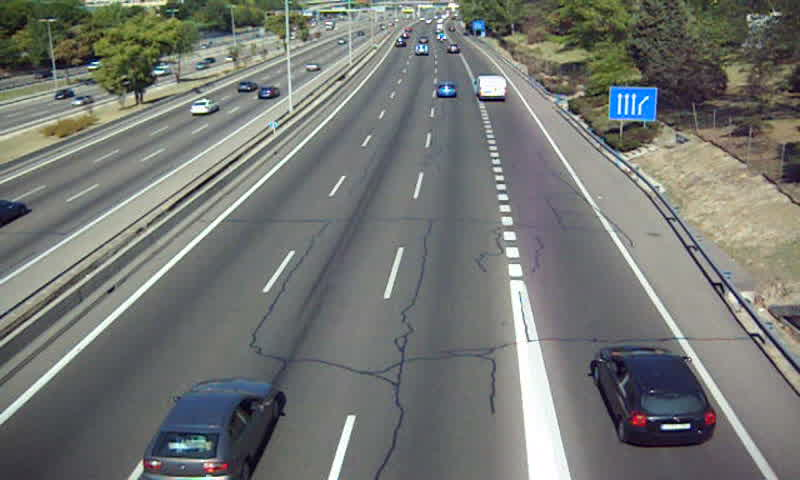car: (141, 380, 283, 480), (590, 346, 718, 449), (434, 83, 458, 100)
van: (477, 76, 507, 103)
